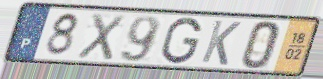0: (240, 19, 281, 70)
8: (43, 11, 79, 58)
9: (118, 14, 165, 63)
G: (160, 16, 204, 66)
K: (198, 19, 243, 68)
X: (74, 12, 127, 62)
